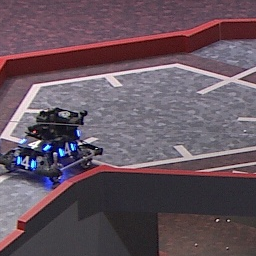Blue: (19, 137, 52, 153), (15, 155, 38, 172), (59, 141, 81, 158)
Robot: (1, 108, 102, 181)
